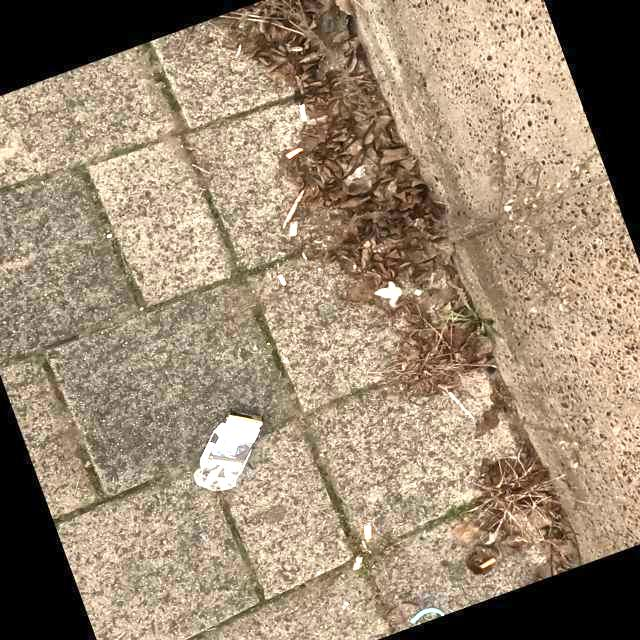Paper: (190, 408, 266, 494)
